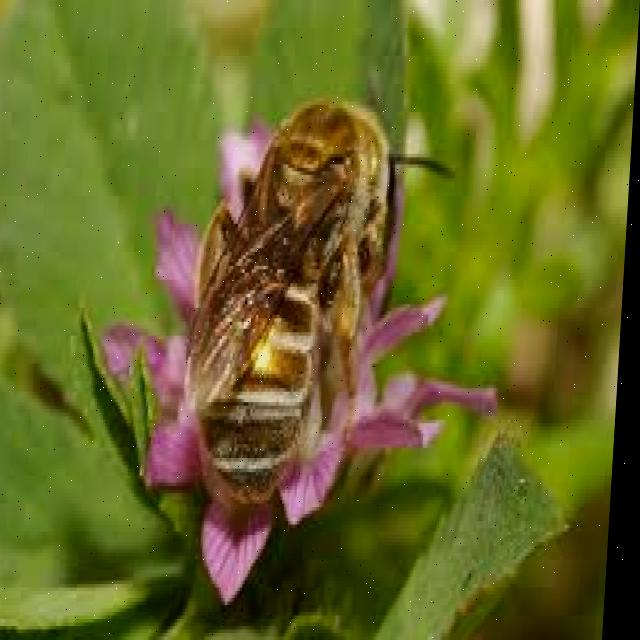Seladonia: (161, 63, 418, 503)
